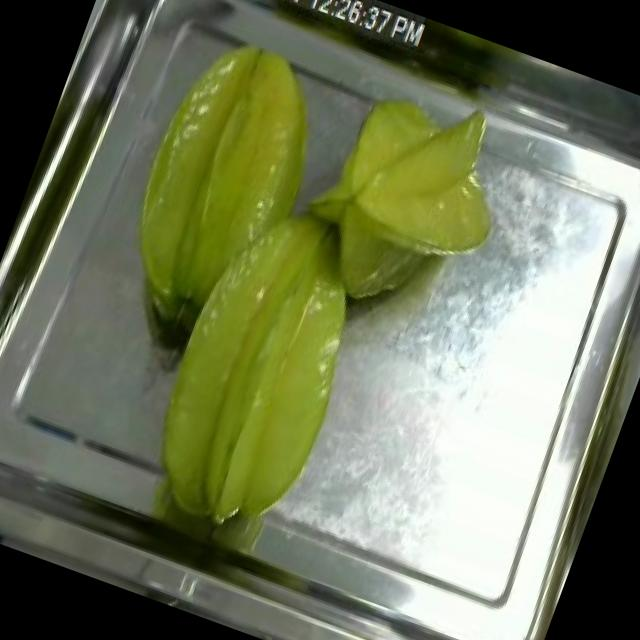fruit: (110, 170, 407, 568), (86, 10, 356, 362), (277, 60, 538, 351)
